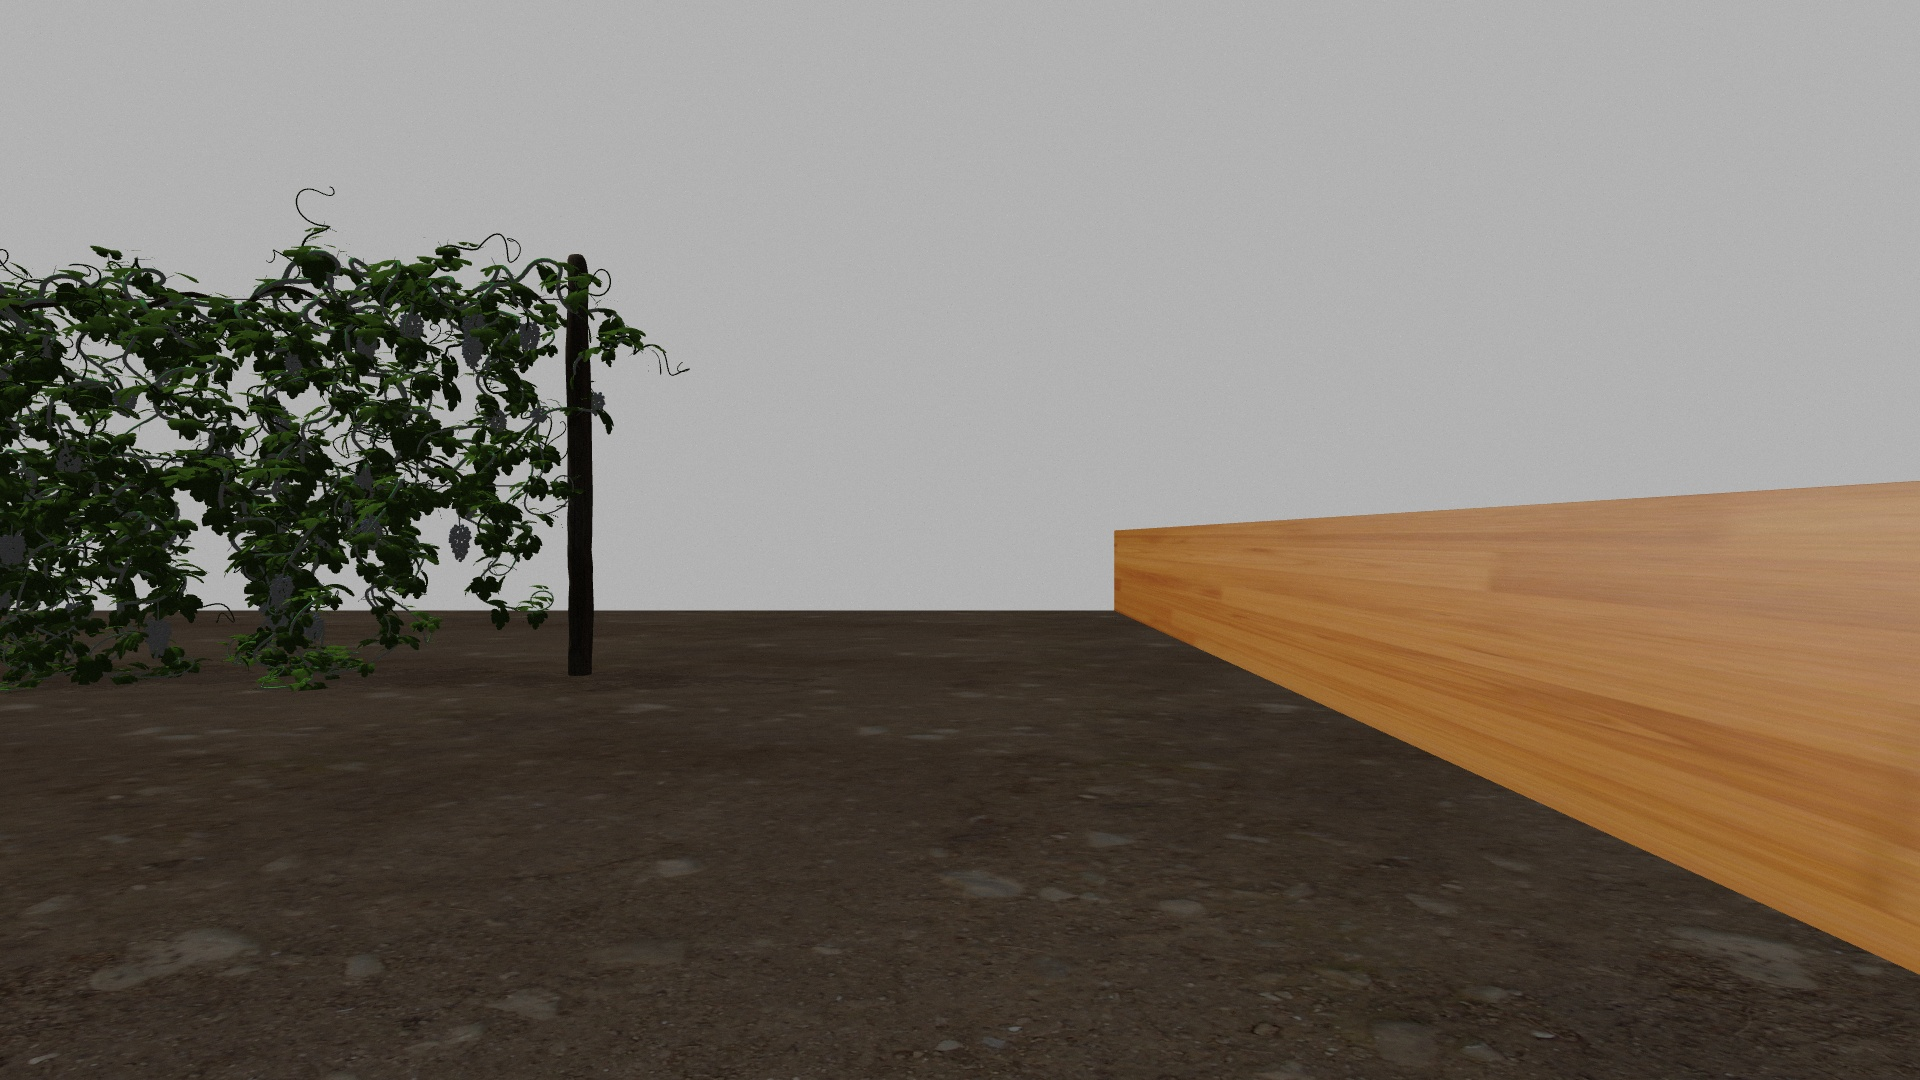grape: (142, 618, 173, 658), (268, 572, 295, 609), (448, 524, 472, 563), (463, 302, 487, 336), (3, 534, 26, 568), (303, 616, 327, 647), (518, 322, 541, 355), (398, 311, 426, 338), (462, 336, 484, 367), (591, 392, 607, 415)
